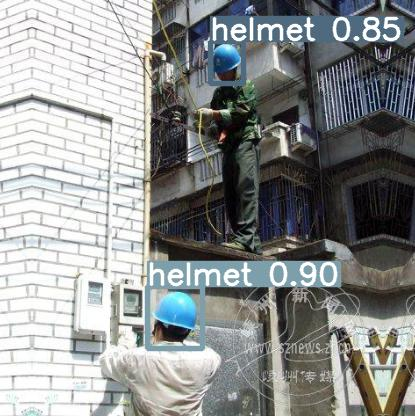helmet: (147, 286, 202, 348), (210, 41, 243, 83)
